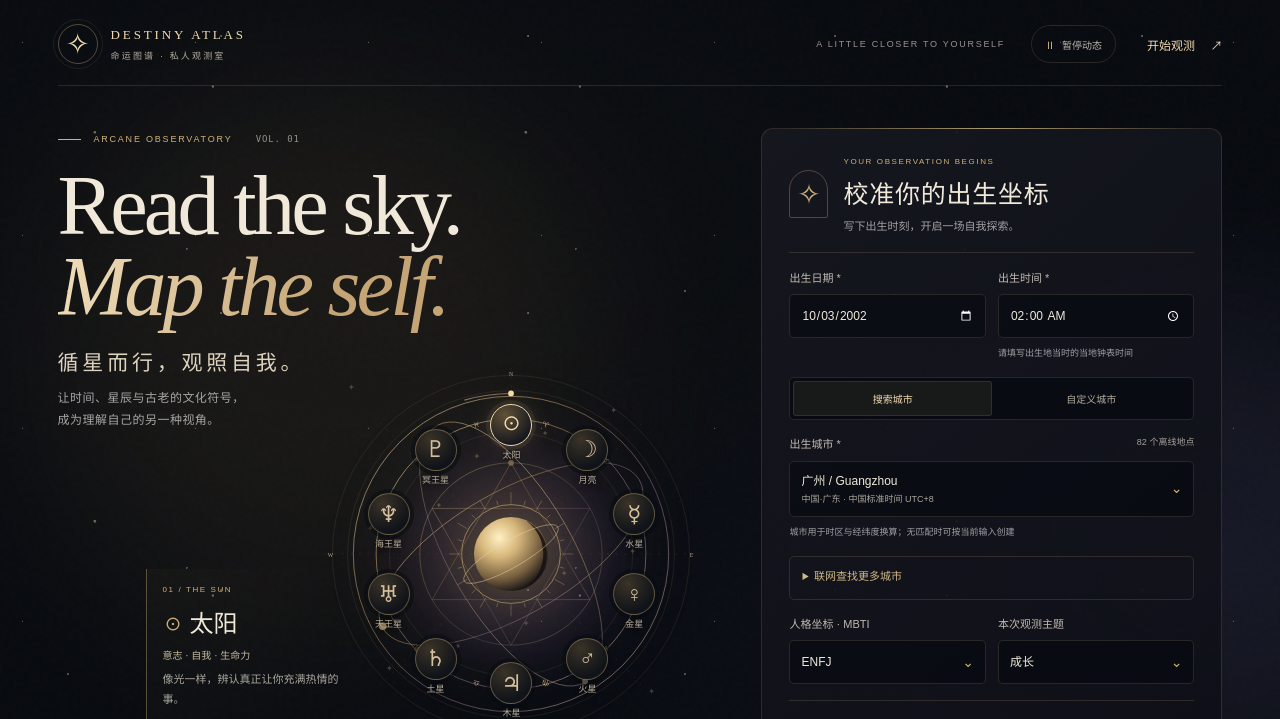
Scenario: observatory interactions › reveals a reflection question from the central body and resets it when switching bodies
The width and height of the screenshot is (1280, 719).
What coordinates should you click on to do the following:
click the button with aria-label "探索月亮"
I would click on:
 (587, 450)
Its box is top-left (566, 429), bottom-right (608, 471).
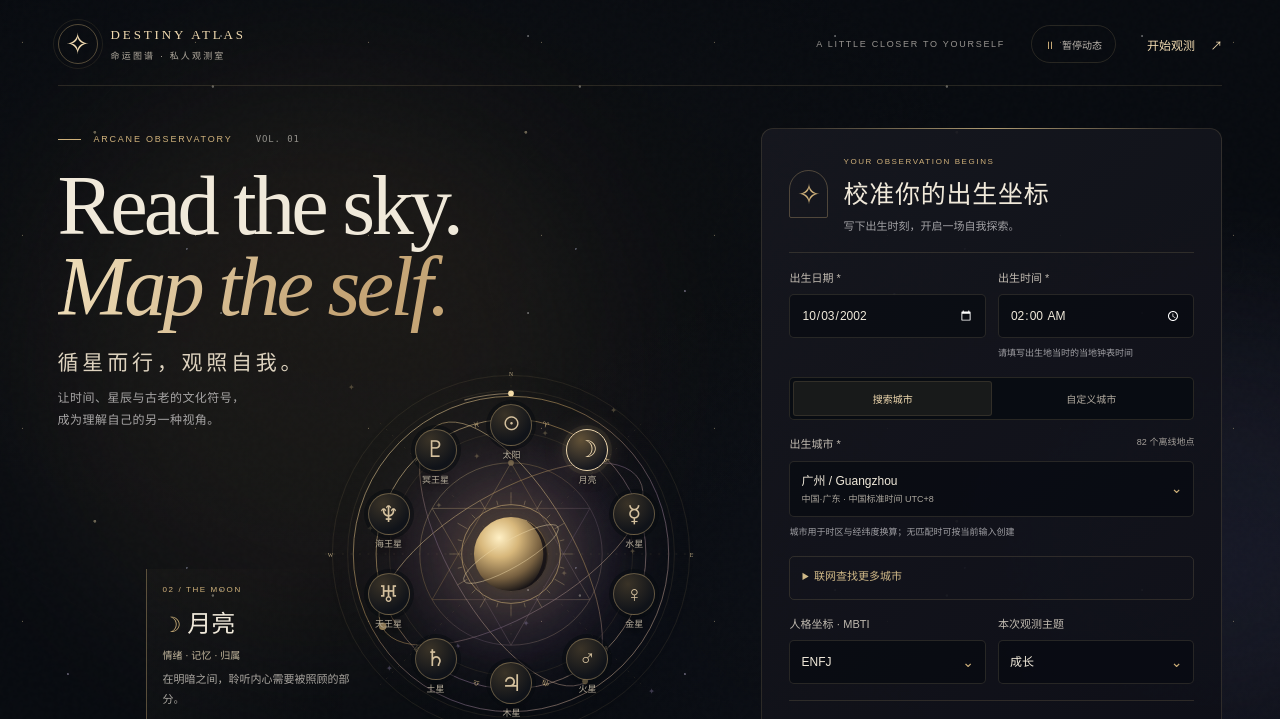
What coordinates should you click on to do the following:
click the button named "观照月亮：切换思考提示"
I would click on:
 (512, 554)
Its box is top-left (468, 510), bottom-right (555, 598).
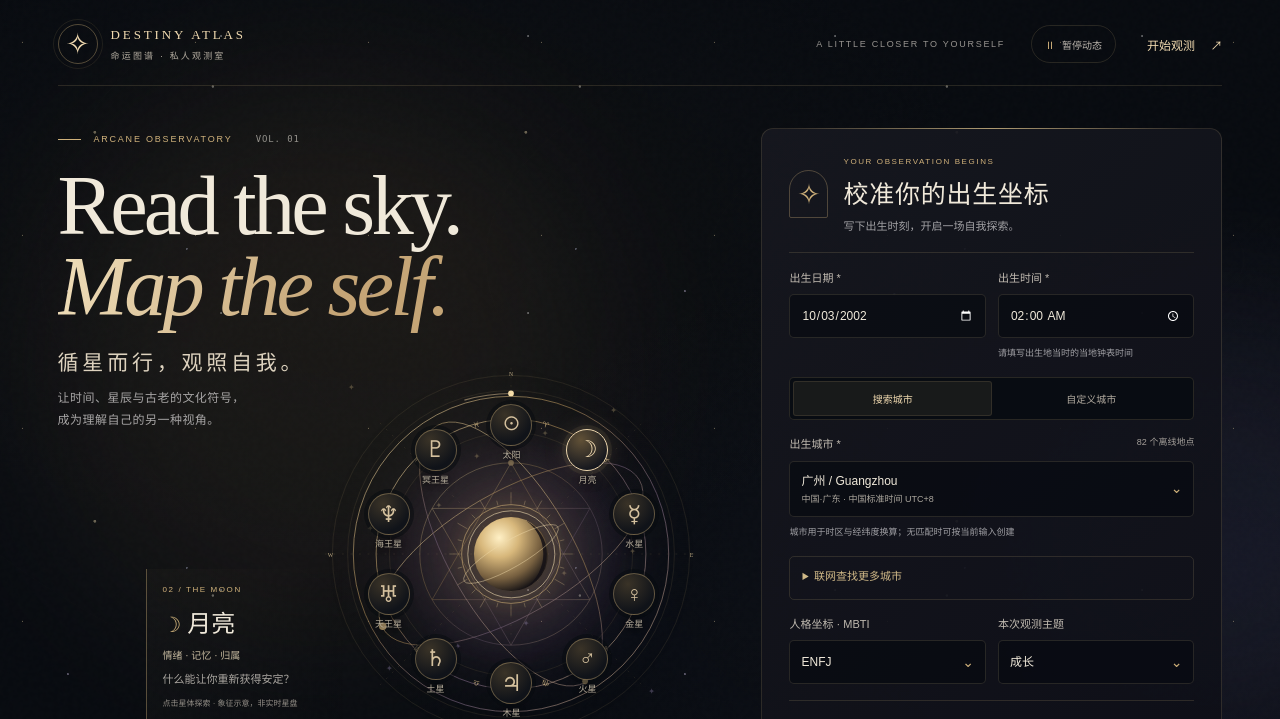
Expected: the text "什么能让你重新获得安定？" is shown, top-left (162, 673), bottom-right (294, 685)
What coordinates should you click on to do the following:
click the button with aria-label "探索水星"
I would click on:
 (634, 514)
Its box is top-left (613, 493), bottom-right (655, 535).
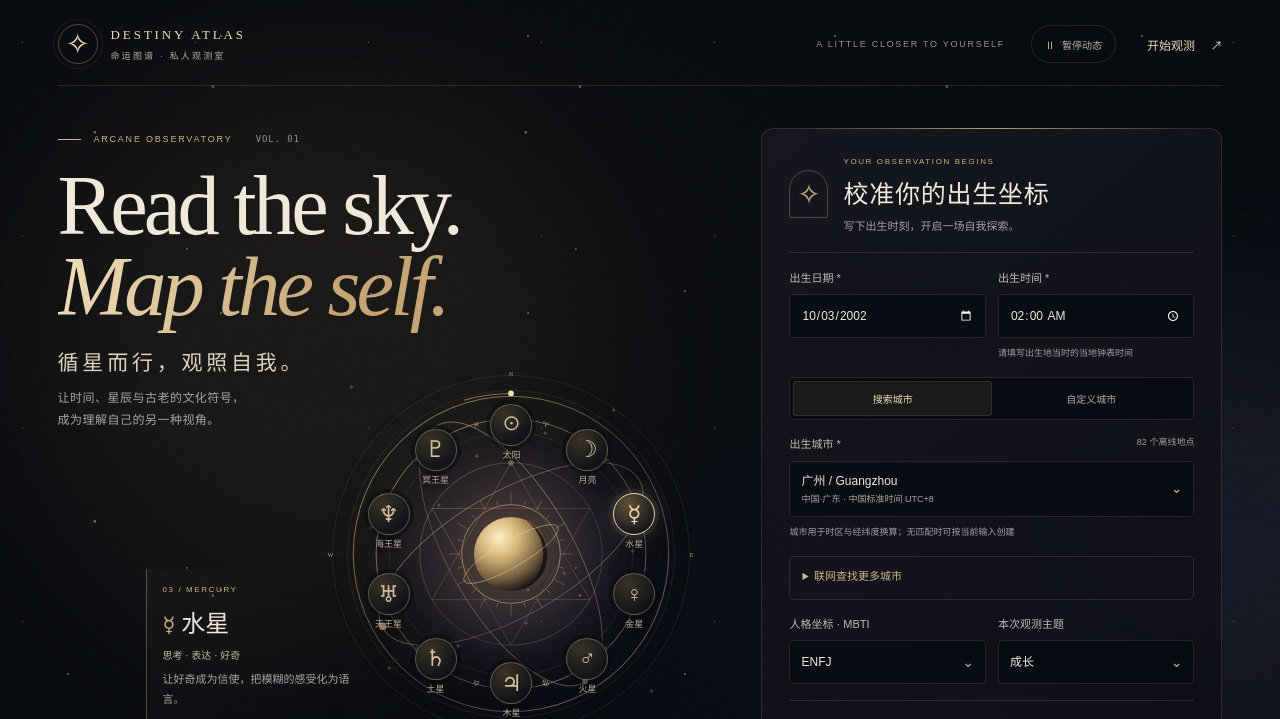
Expected: the text "什么能让你重新获得安定？" is gone
